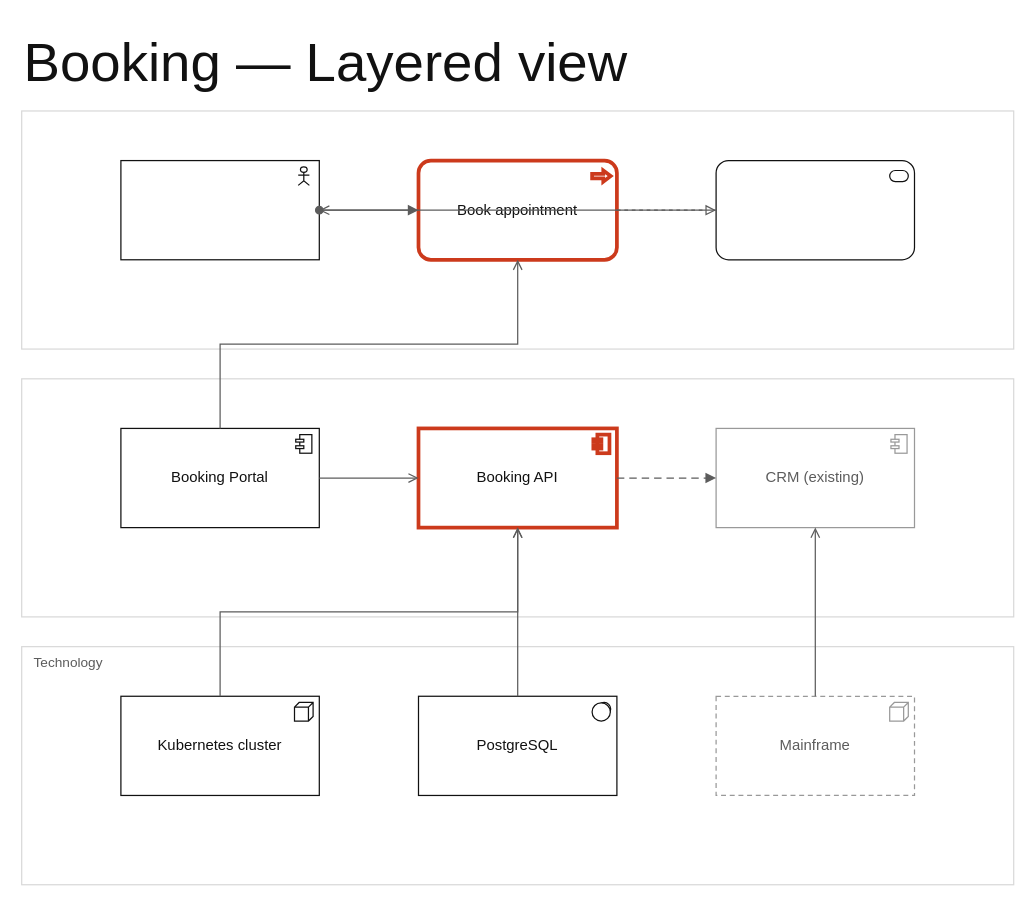
This 1035x906 diagram has some shape labels left out. The shapes that lost their labels are listed below. From the top down, each one's box as (x1, y1, x2, y2) in pixels, then its label:
(120, 159, 319, 260): Customer
(20, 110, 1014, 349): Business
(715, 159, 914, 260): Booking service
(20, 378, 1014, 617): Application
